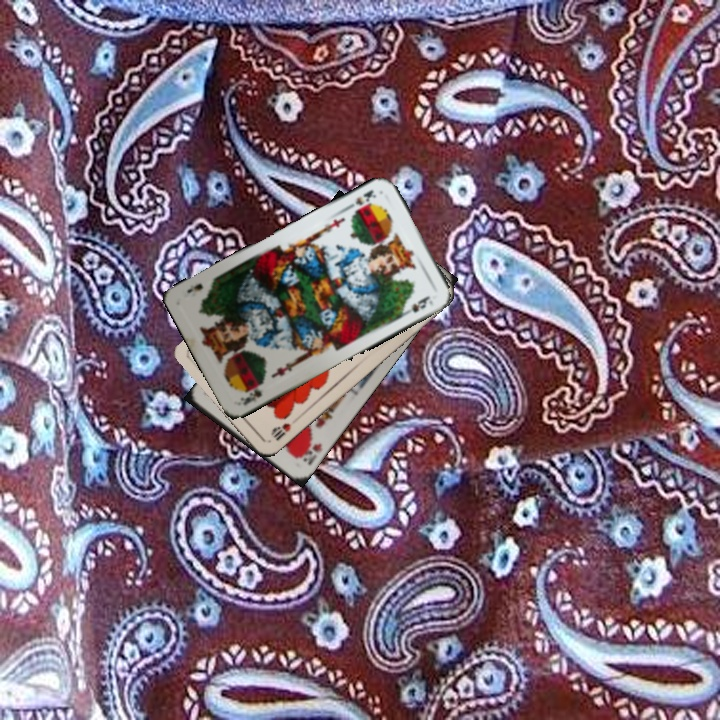H10: (266, 419, 293, 443)
HK: (293, 433, 325, 468)
SK: (236, 379, 267, 408), (350, 186, 379, 214)
